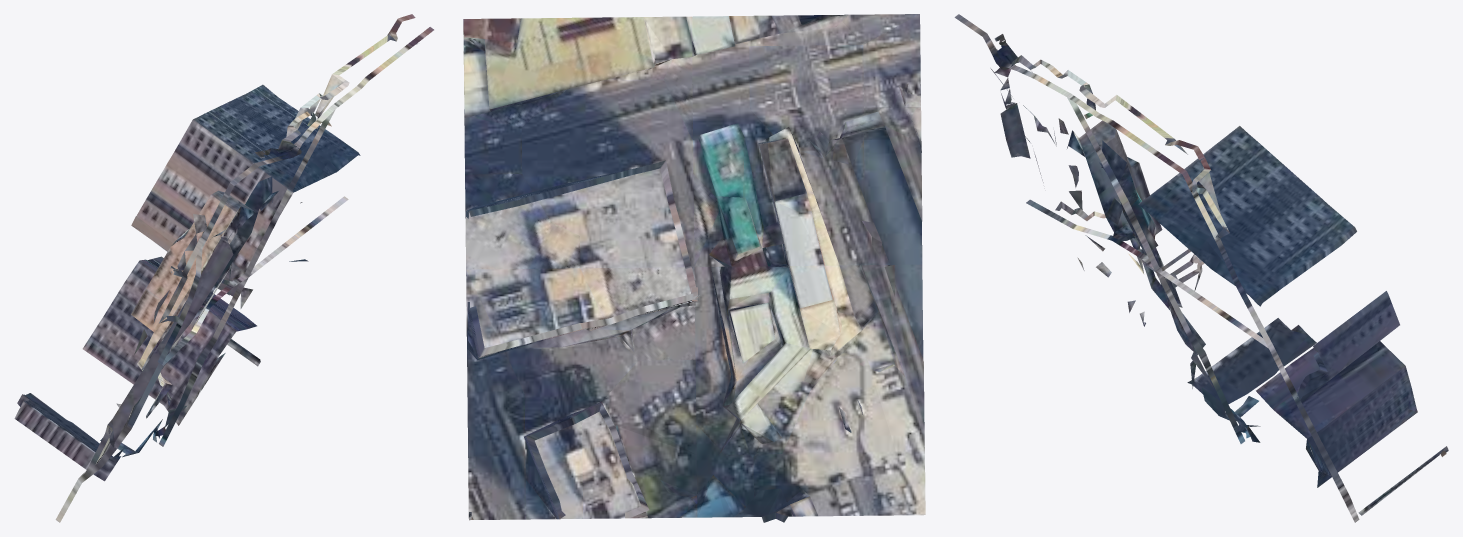
3 renders of one model, left to right at view 1: azimuth 30°, elevation 25°; view 2: azimuth 150°, elevation 25°; view 3: azimuth 270°, elevation 25°, orthographic. The views are drawn at different scales.
Bounding box in the file's own units: 153 × 143 × 157.
2 materials, 2 textured.
